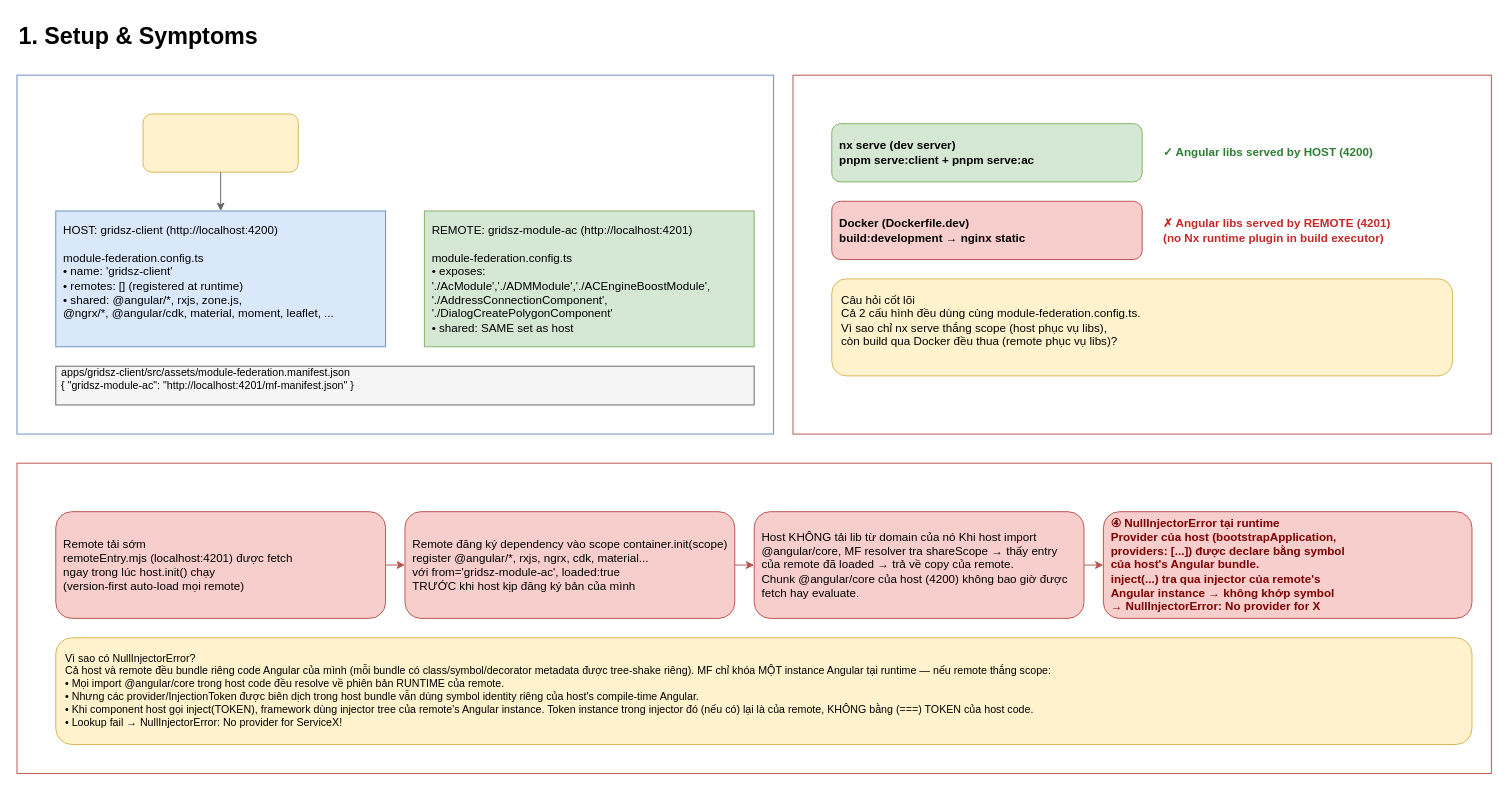
This 1508x791 diagram has some shape labels left out. The box of each missing label's shape, as (x1, y1, x2, y2) in pixels:
Architecture: (16, 74, 774, 434)
Browser: (142, 113, 298, 172)
Hậu quả khi remote thắng shareScope: (16, 462, 1491, 774)
Symptoms observed in DevTools Network tab: (792, 74, 1491, 434)
